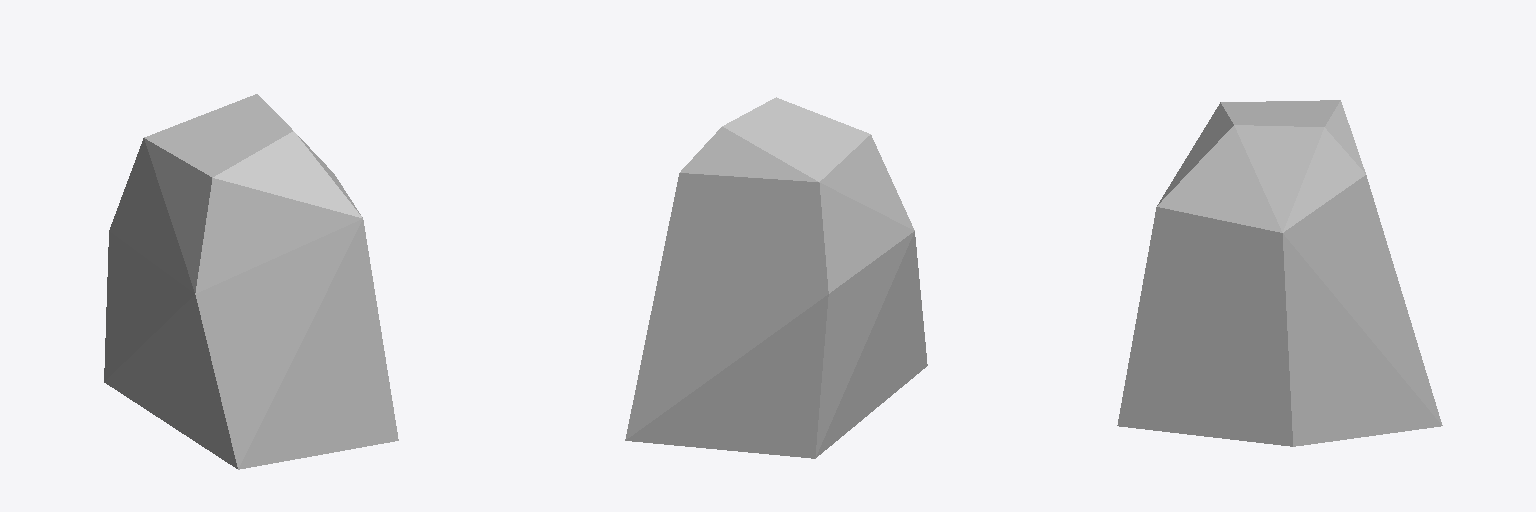
Rendered from Rock3.obj.
3 views of the same model, side by side, from view 1: azimuth 30°, elevation 25°; view 2: azimuth 150°, elevation 25°; view 3: azimuth 270°, elevation 25° (orthographic).
Parts seen in each view (by area): view 1: Rock_Cube.005; view 2: Rock_Cube.005; view 3: Rock_Cube.005.
Boxes of the visible parts, <box> form: Rock_Cube.005: <box>104,94,398,469</box>; Rock_Cube.005: <box>625,97,927,458</box>; Rock_Cube.005: <box>1117,100,1442,446</box>.
Bounding box in the file's own units: 5.03 × 6.49 × 6.82.